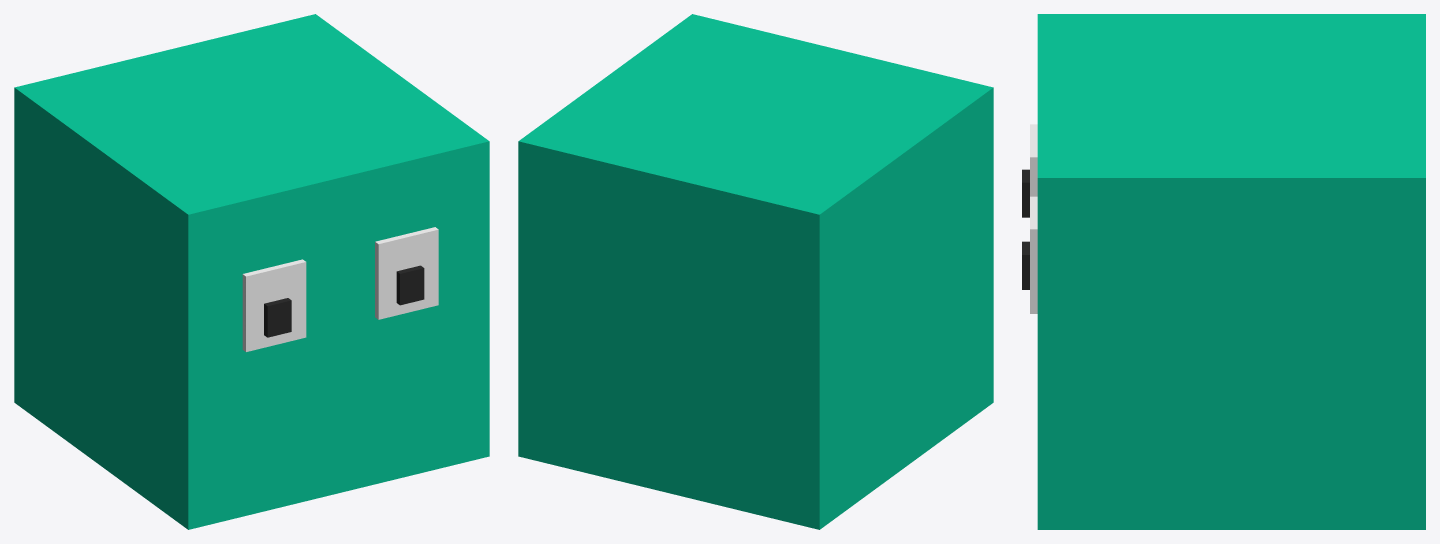
The model's file is lingo-2023.glb.
The picture shows the model from 3 angles, left to right: view 1: azimuth 30°, elevation 25°; view 2: azimuth 150°, elevation 25°; view 3: azimuth 270°, elevation 25°; orthographic projection. The views are drawn at different scales.
Visible parts, largest first — view 1: Sage; view 2: Sage; view 3: Sage.
Boxes of the visible parts, x1,y1,x2,y2 form: Sage: [14, 14, 489, 529]; Sage: [518, 14, 993, 529]; Sage: [1022, 14, 1425, 529].
Size of the model in its own units: 1 by 1 by 1.04.
